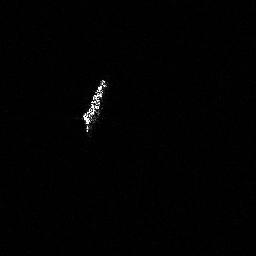ship: (79, 76, 109, 135)
